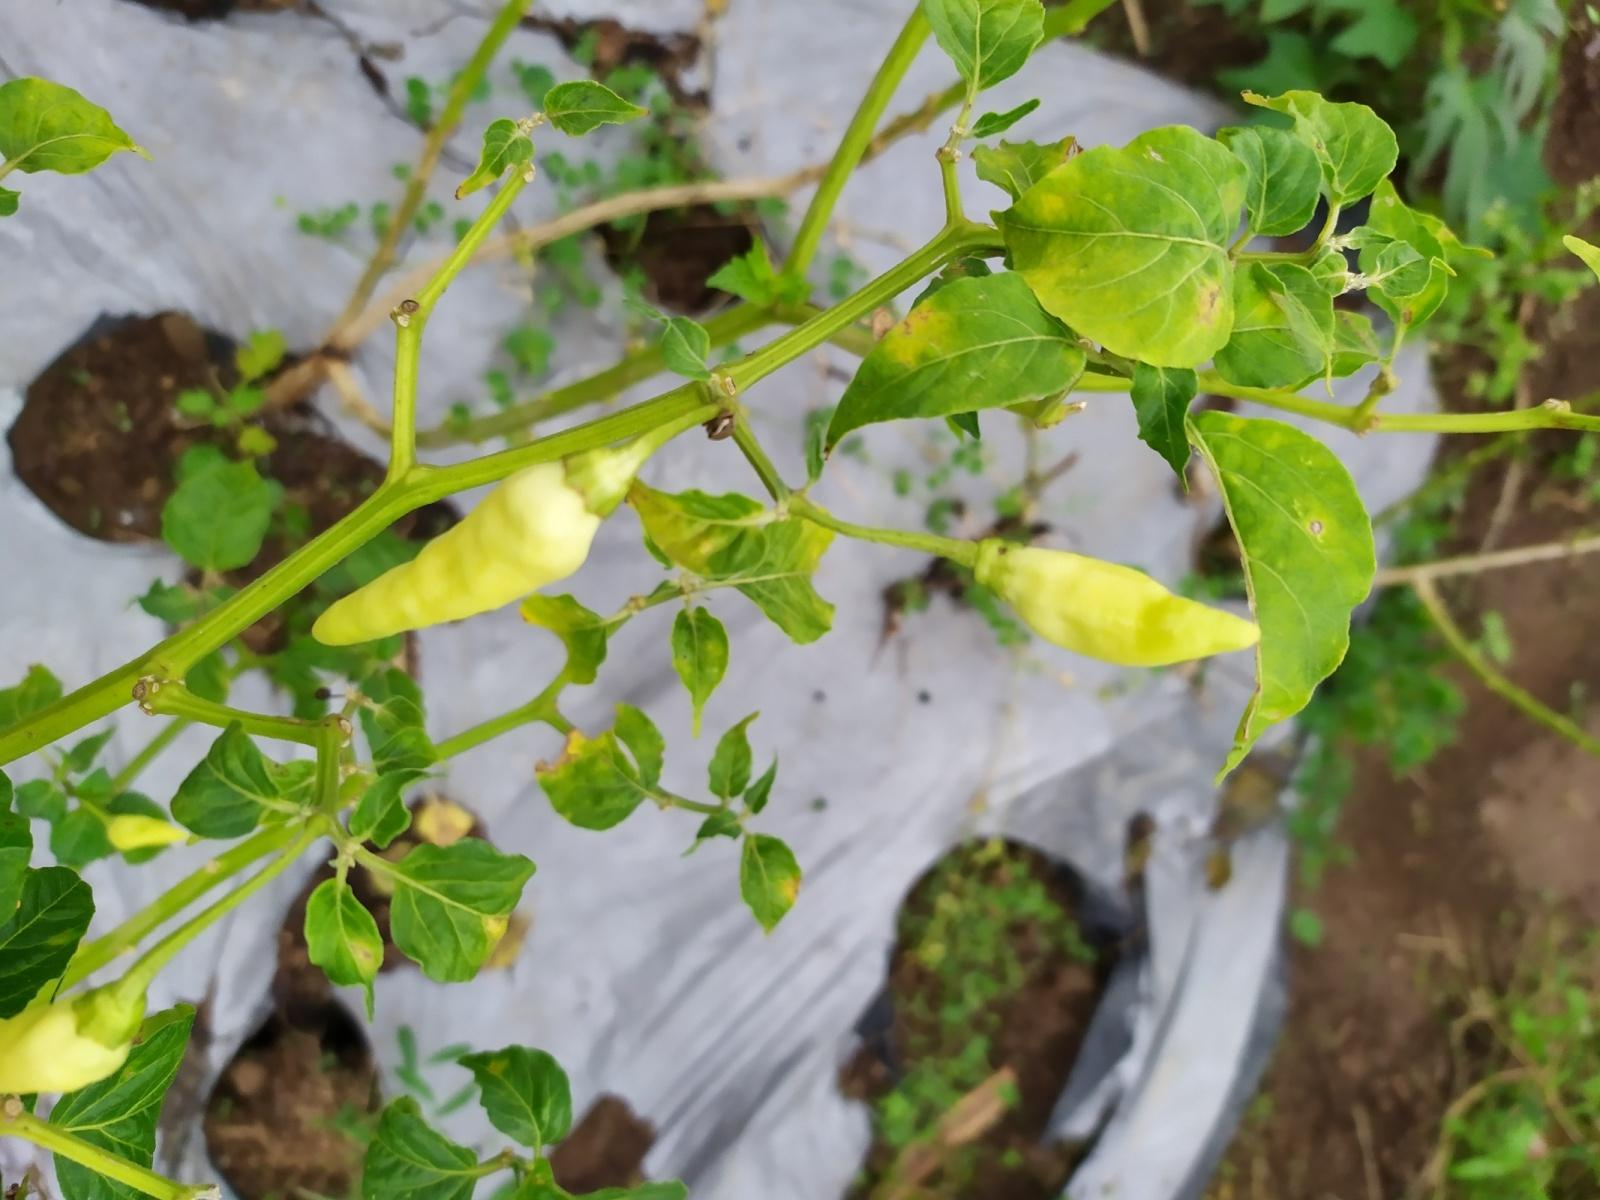cabai_normal: (311, 455, 615, 648), (989, 543, 1261, 668)
